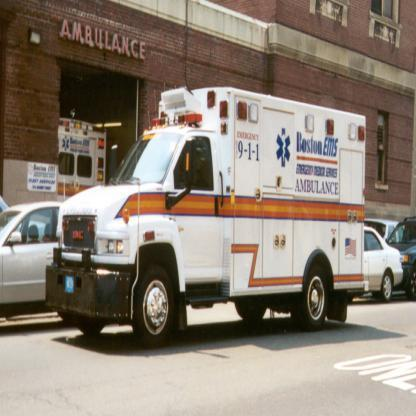ambulance_off: (46, 89, 365, 342)
